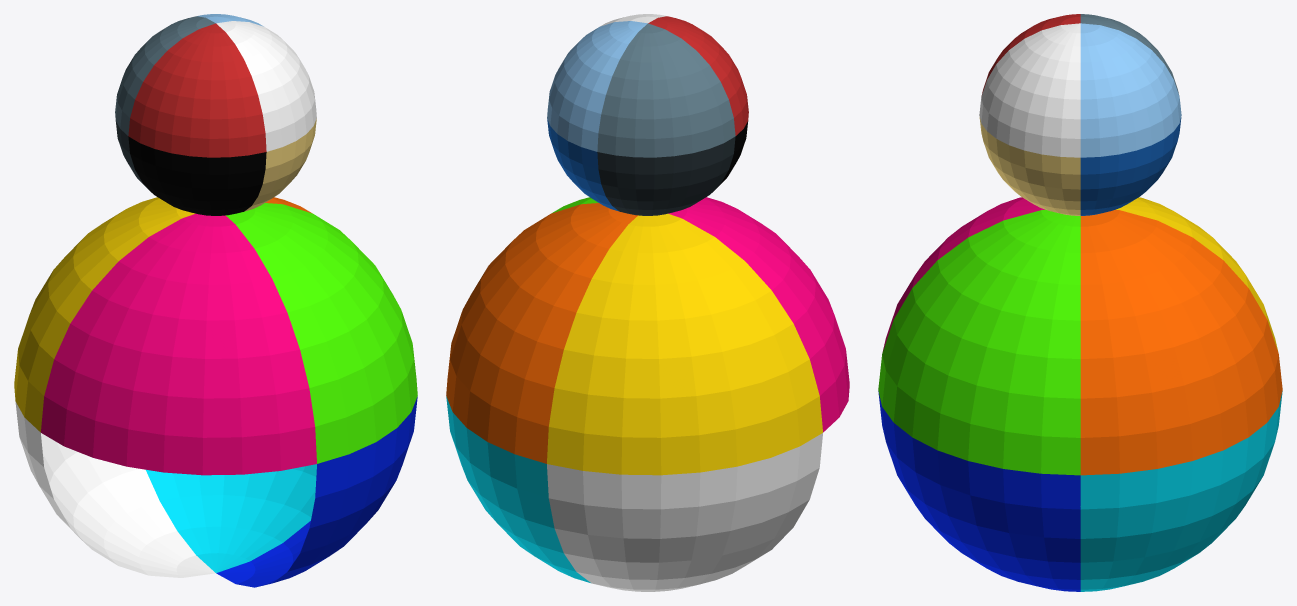
The model's file is DoubleSphere.fbx.
3 views of the same model, side by side, from view 1: azimuth 30°, elevation 25°; view 2: azimuth 150°, elevation 25°; view 3: azimuth 270°, elevation 25° (orthographic).
Parts seen in each view (by area): view 1: DoubleSphere; view 2: DoubleSphere; view 3: DoubleSphere.
Part boxes in pixels (x1,y1,x2,y2): DoubleSphere: [14, 14, 417, 587]; DoubleSphere: [446, 14, 849, 591]; DoubleSphere: [878, 14, 1282, 591].
Bounding box in the file's own units: 2 × 3 × 2.
